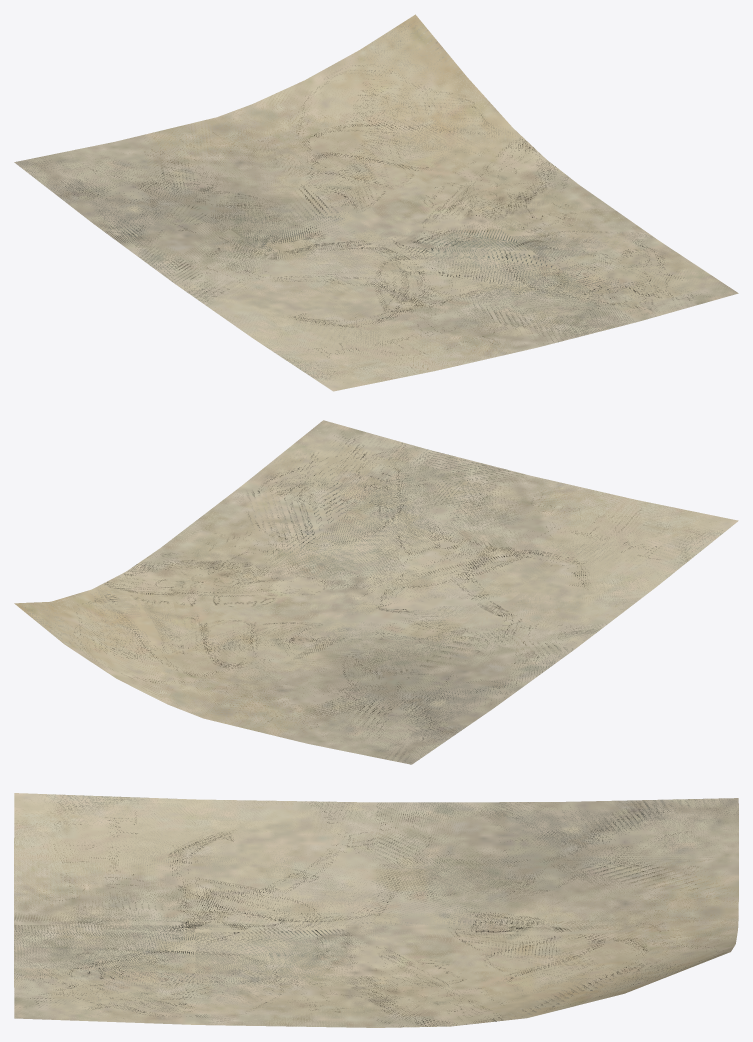
The model's file is upsilon_drawings_04.dae.
3 views of the same model, one above another, from view 1: azimuth 30°, elevation 25°; view 2: azimuth 150°, elevation 25°; view 3: azimuth 270°, elevation 25° (orthographic). The views are drawn at different scales.
Visible parts, largest first — view 1: wau; view 2: wau; view 3: wau.
Boxes of the visible parts, x1,y1,x2,y2 form: wau: [14, 14, 738, 391]; wau: [14, 420, 738, 764]; wau: [14, 793, 738, 1027].
Size of the model in its own units: 0.3849 by 0.0598 by 0.5251.
